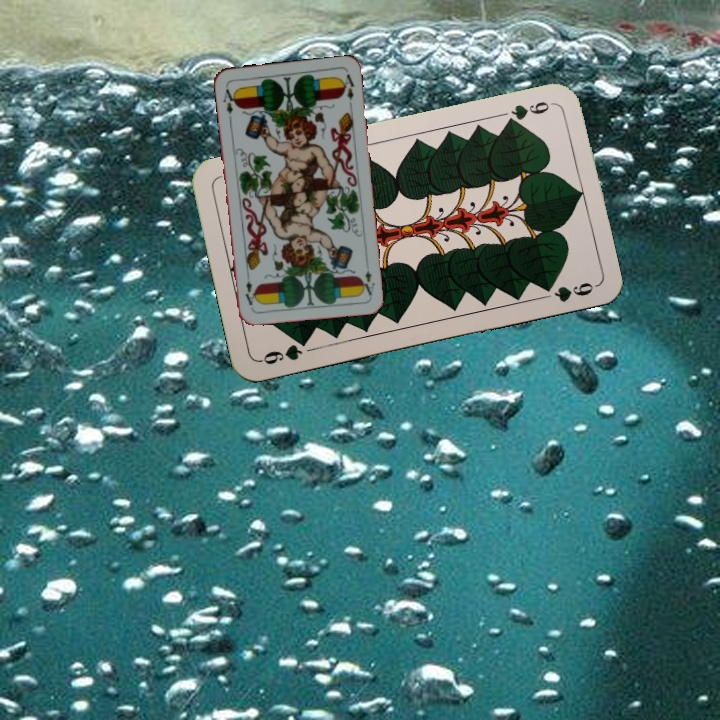EA: (357, 258, 377, 298), (219, 82, 239, 116)
G9: (256, 334, 312, 367), (501, 97, 557, 128)
